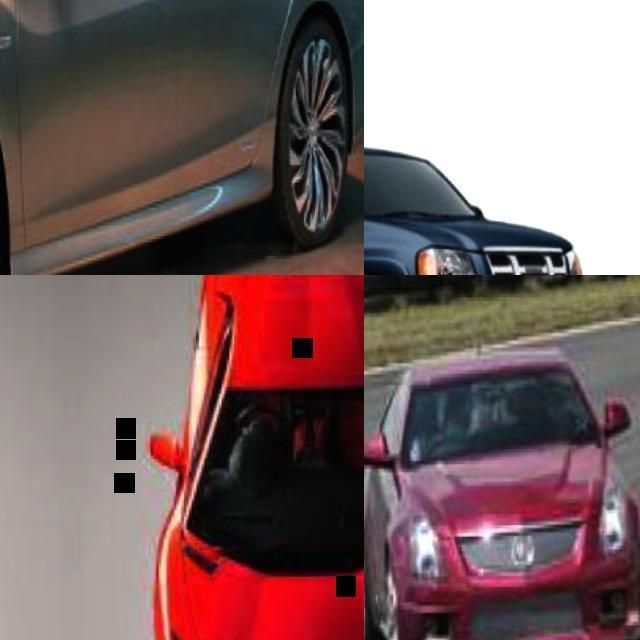car: (366, 335, 639, 639)
